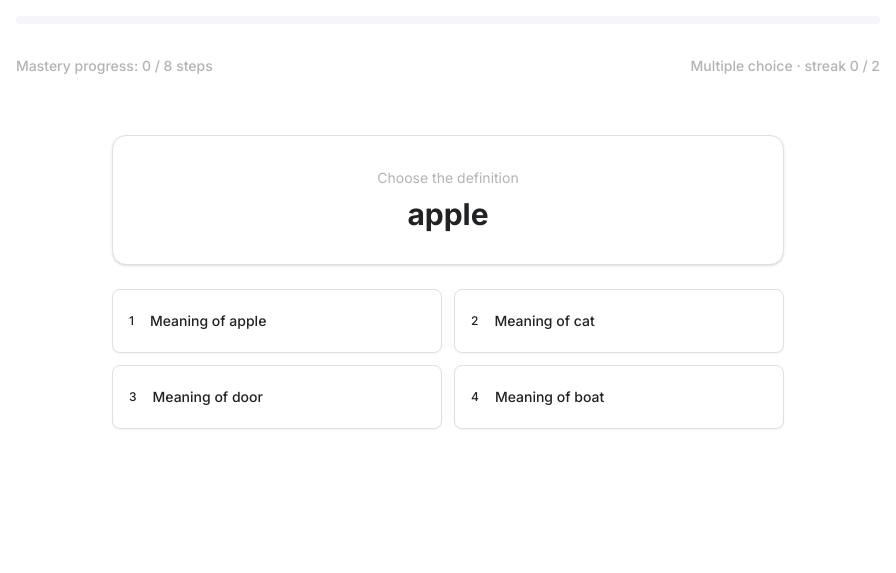
AdaptiveLearnPlayer › should_show_answer_feedback_on_choices_and_advance_session_progress
Click the button "1 Meaning of apple" at (208, 320), box top-left (112, 289), bottom-right (442, 353)
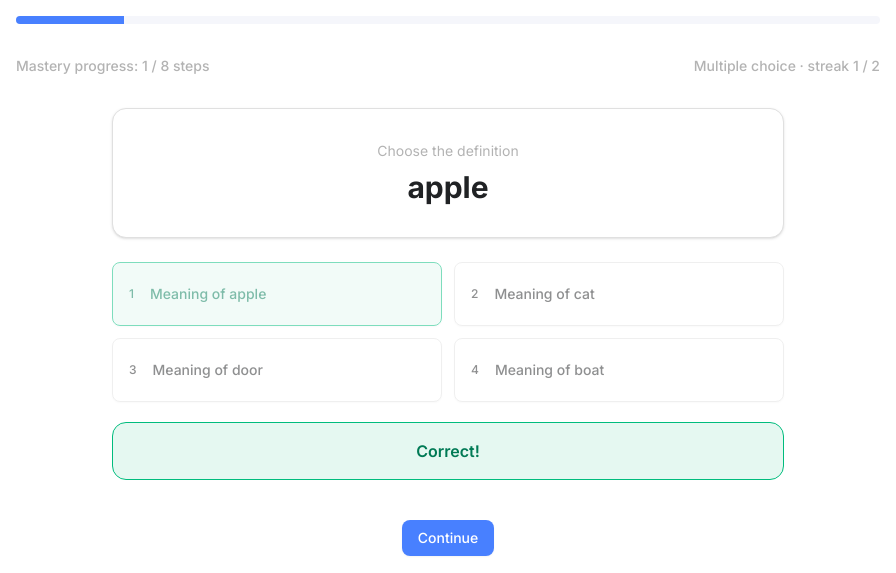
Result: the text "Mastery progress: 1 / 8 steps" is shown at top-left (16, 56), bottom-right (210, 76)
